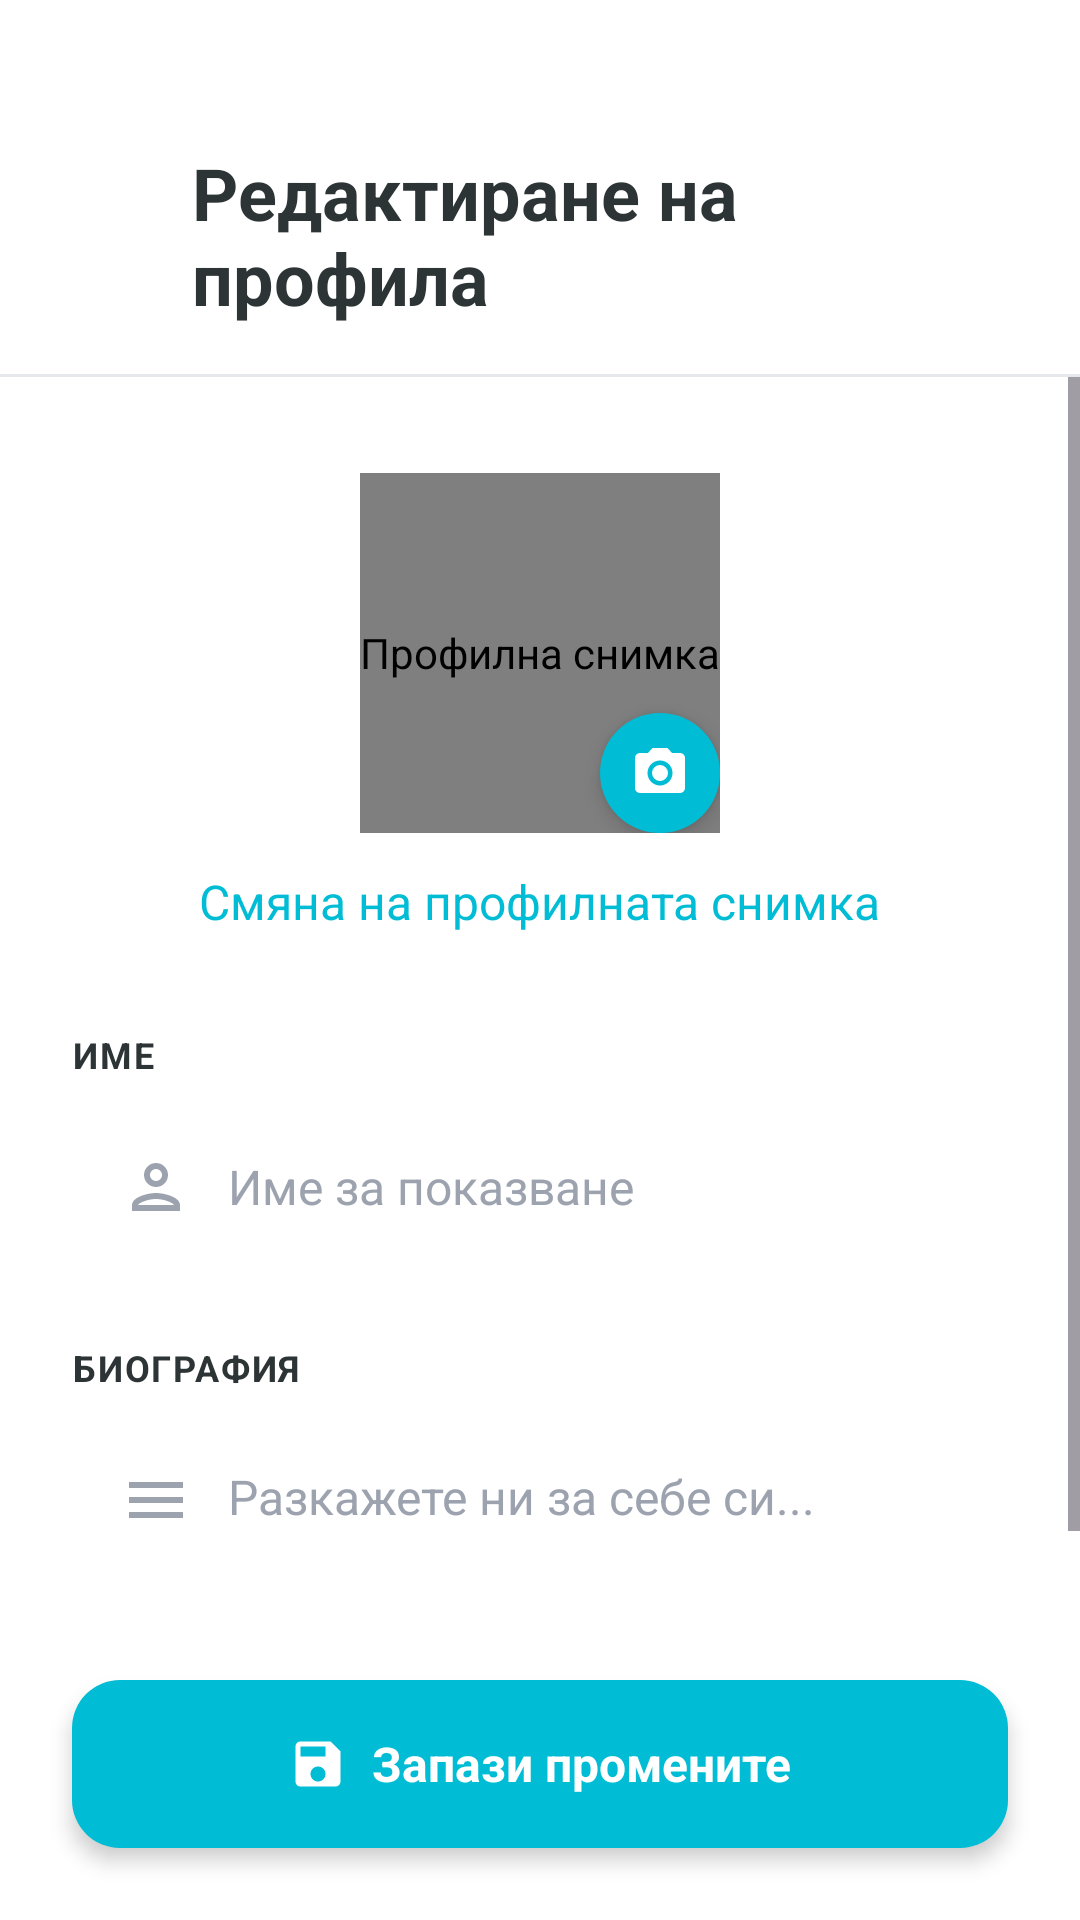

Screen size 1080*1920. Icon name, then its box in pixels as (x1, y1, x2, y2):
bio lines: (129, 1482, 183, 1518)
camera: (635, 748, 685, 793)
person: (132, 1163, 180, 1211)
save: (295, 1741, 341, 1787)
